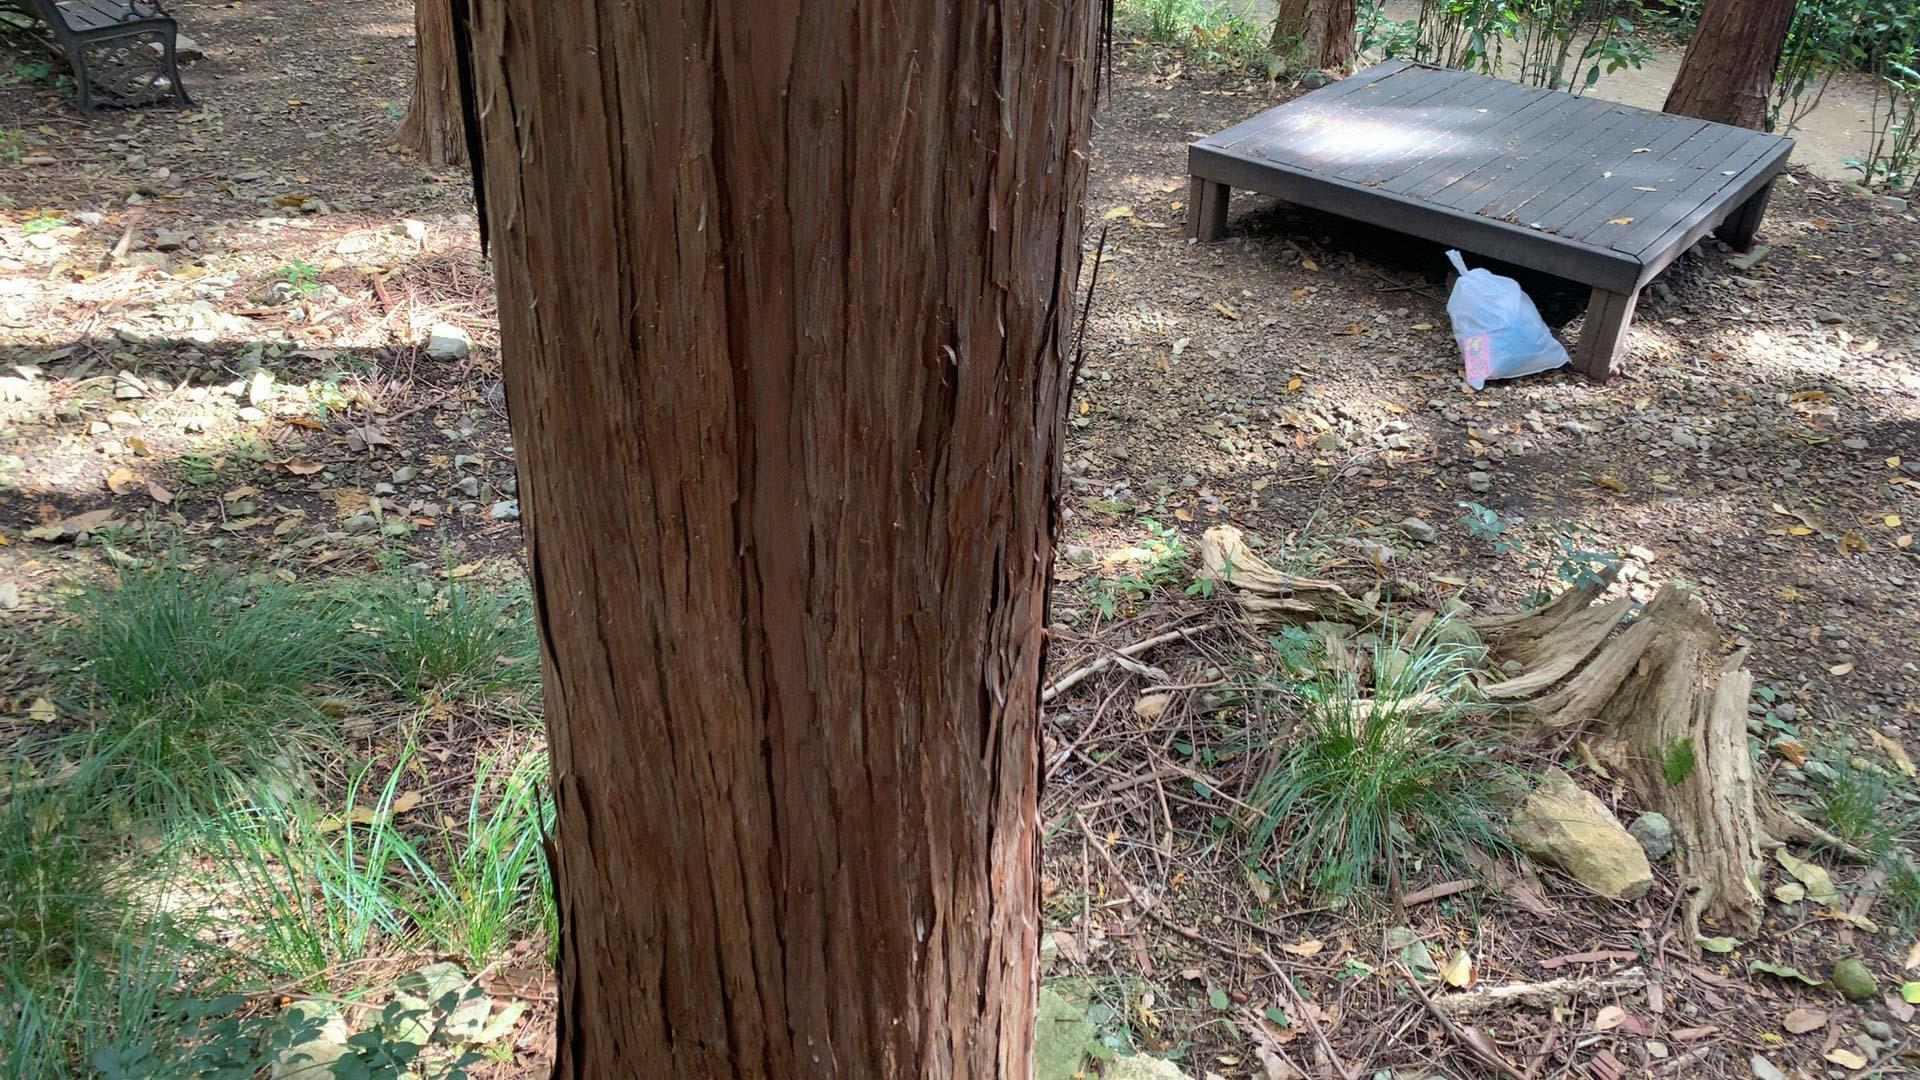white_bag: (1428, 228, 1589, 397)
